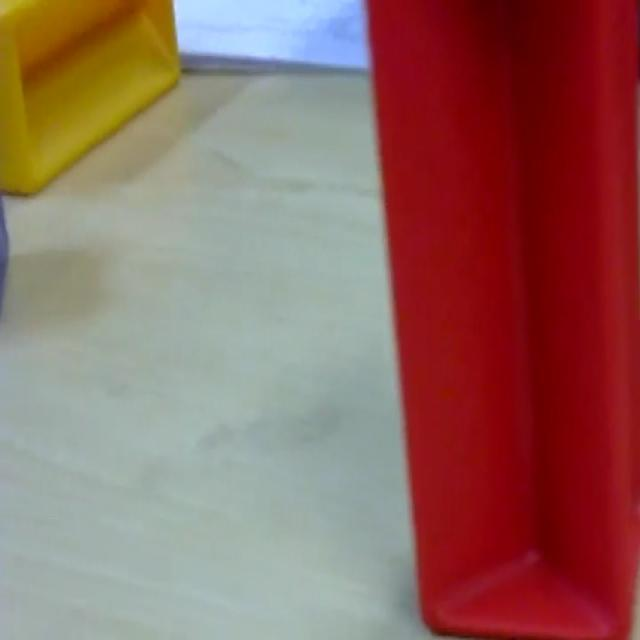red_block: (363, 0, 638, 636)
yellow_block: (1, 0, 181, 195)
